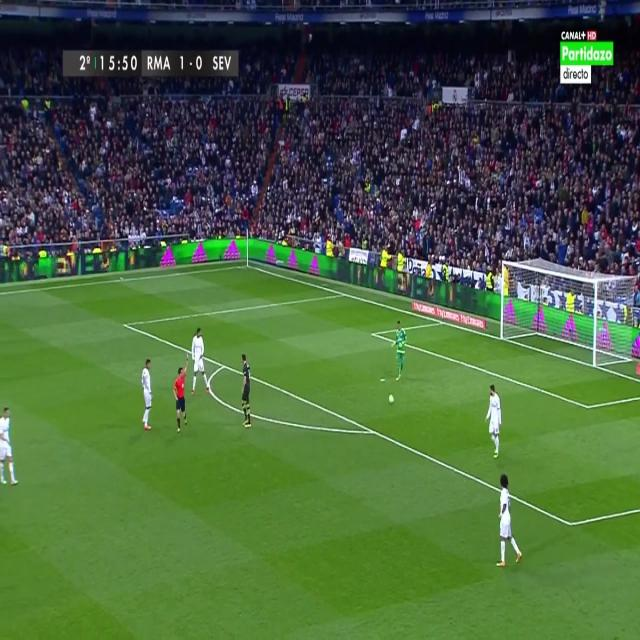Ball: (387, 392, 395, 406)
Goalkeeper: (390, 318, 408, 380)
Player: (496, 468, 523, 573), (0, 406, 20, 494), (484, 383, 504, 461), (191, 324, 211, 398), (140, 357, 156, 437), (240, 349, 252, 429)
Referee: (170, 355, 190, 434)
